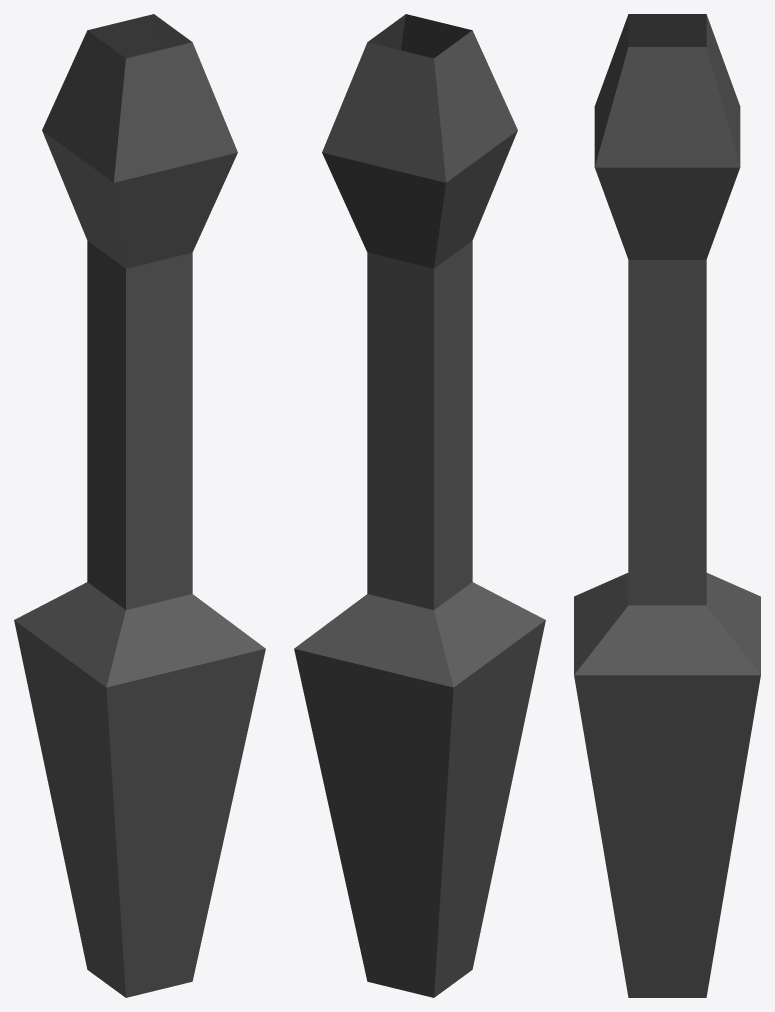
The model's file is Itr_Table_Leg_04.FBX.
3 renders of one model, left to right at view 1: azimuth 30°, elevation 25°; view 2: azimuth 150°, elevation 25°; view 3: azimuth 270°, elevation 25°, orthographic.
Visible parts, largest first — view 1: Itr_Table_Leg_04; view 2: Itr_Table_Leg_04; view 3: Itr_Table_Leg_04.
Boxes of the visible parts, x1,y1,x2,y2 form: Itr_Table_Leg_04: (14,14,265,997); Itr_Table_Leg_04: (294,14,545,997); Itr_Table_Leg_04: (574,14,760,997).
Bounding box in the file's own units: 4.88 × 27.48 × 4.9.
